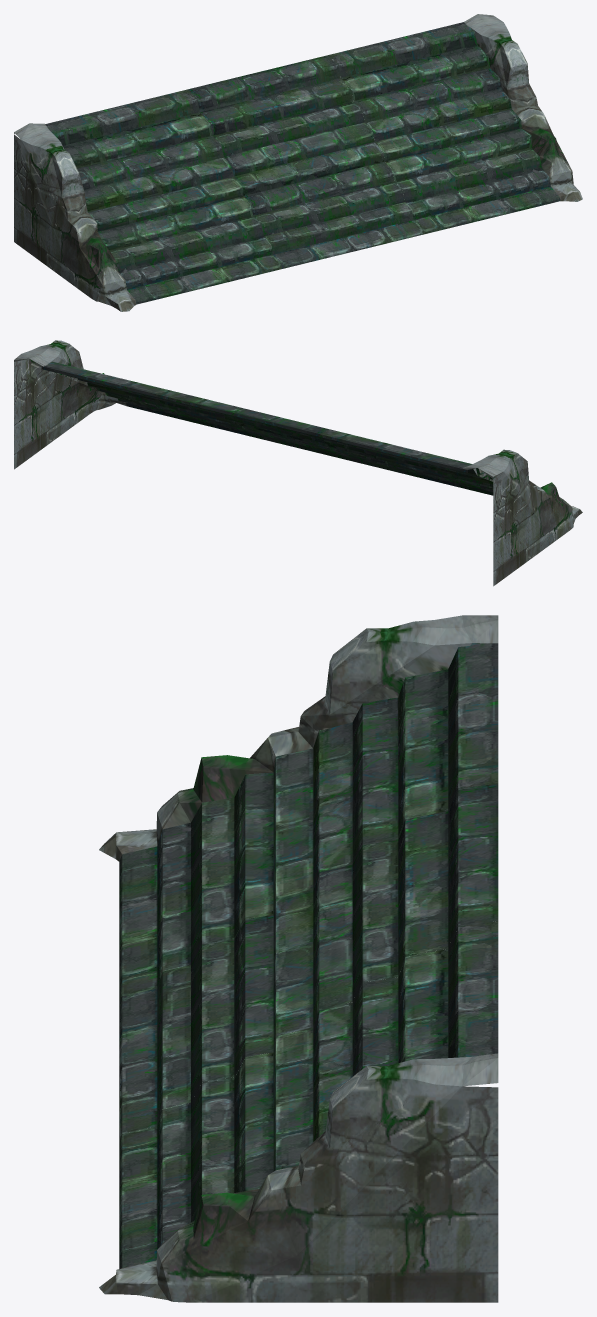
Rendered from stemple_half_stair_03.fbx.
The picture shows the model from 3 angles, top to bottom: view 1: azimuth 30°, elevation 25°; view 2: azimuth 150°, elevation 25°; view 3: azimuth 270°, elevation 25°; orthographic projection. The views are drawn at different scales.
Visible parts, largest first — view 1: obj1.058; view 2: obj1.058; view 3: obj1.058.
Boxes of the visible parts, bbox=[...] form: obj1.058: bbox=[14, 14, 582, 311]; obj1.058: bbox=[14, 340, 582, 586]; obj1.058: bbox=[99, 615, 498, 1302].
Bounding box in the file's own units: 12.91 × 2.94 × 4.63.
